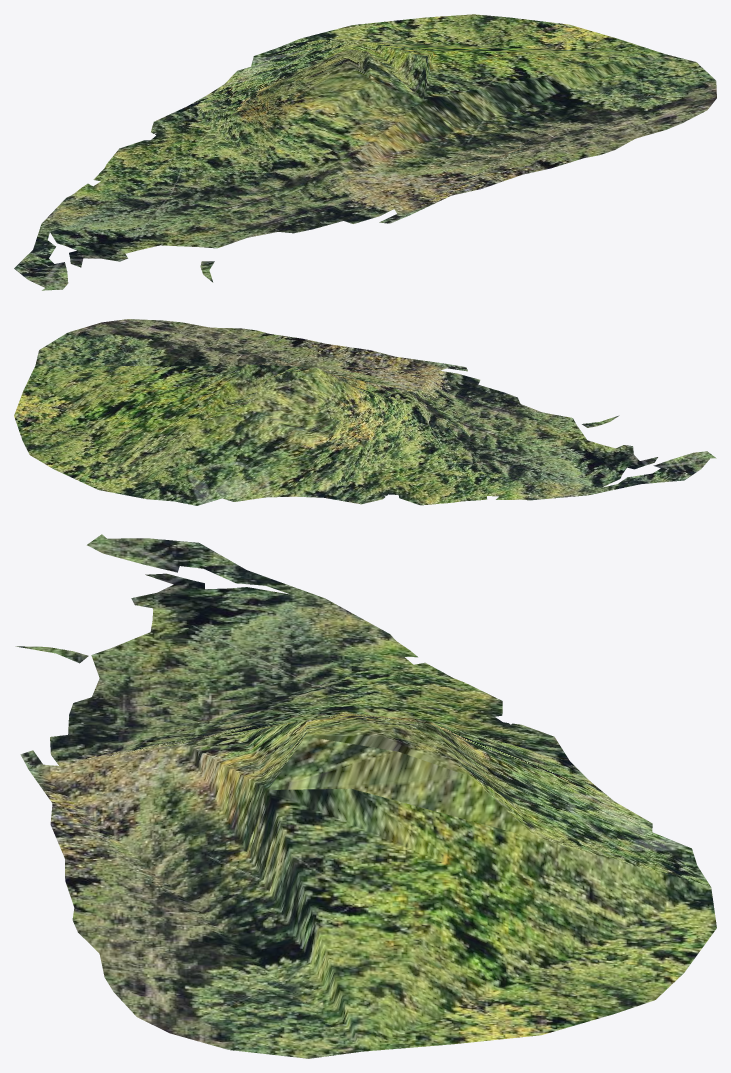
File: sreelanka.glb
3 renders of one model, top to bottom at view 1: azimuth 30°, elevation 25°; view 2: azimuth 150°, elevation 25°; view 3: azimuth 270°, elevation 25°, orthographic. The views are drawn at different scales.
Parts seen in each view (by area): view 1: sl.002; view 2: sl.002; view 3: sl.002.
Boxes of the visible parts, <box> form: sl.002: <box>14,14,716,290</box>; sl.002: <box>14,319,716,505</box>; sl.002: <box>15,534,716,1058</box>.
Size of what is drawn, in the model's own units: 3.55 by 0.347 by 2.01.
Materials: 1 (1 with a texture image).
